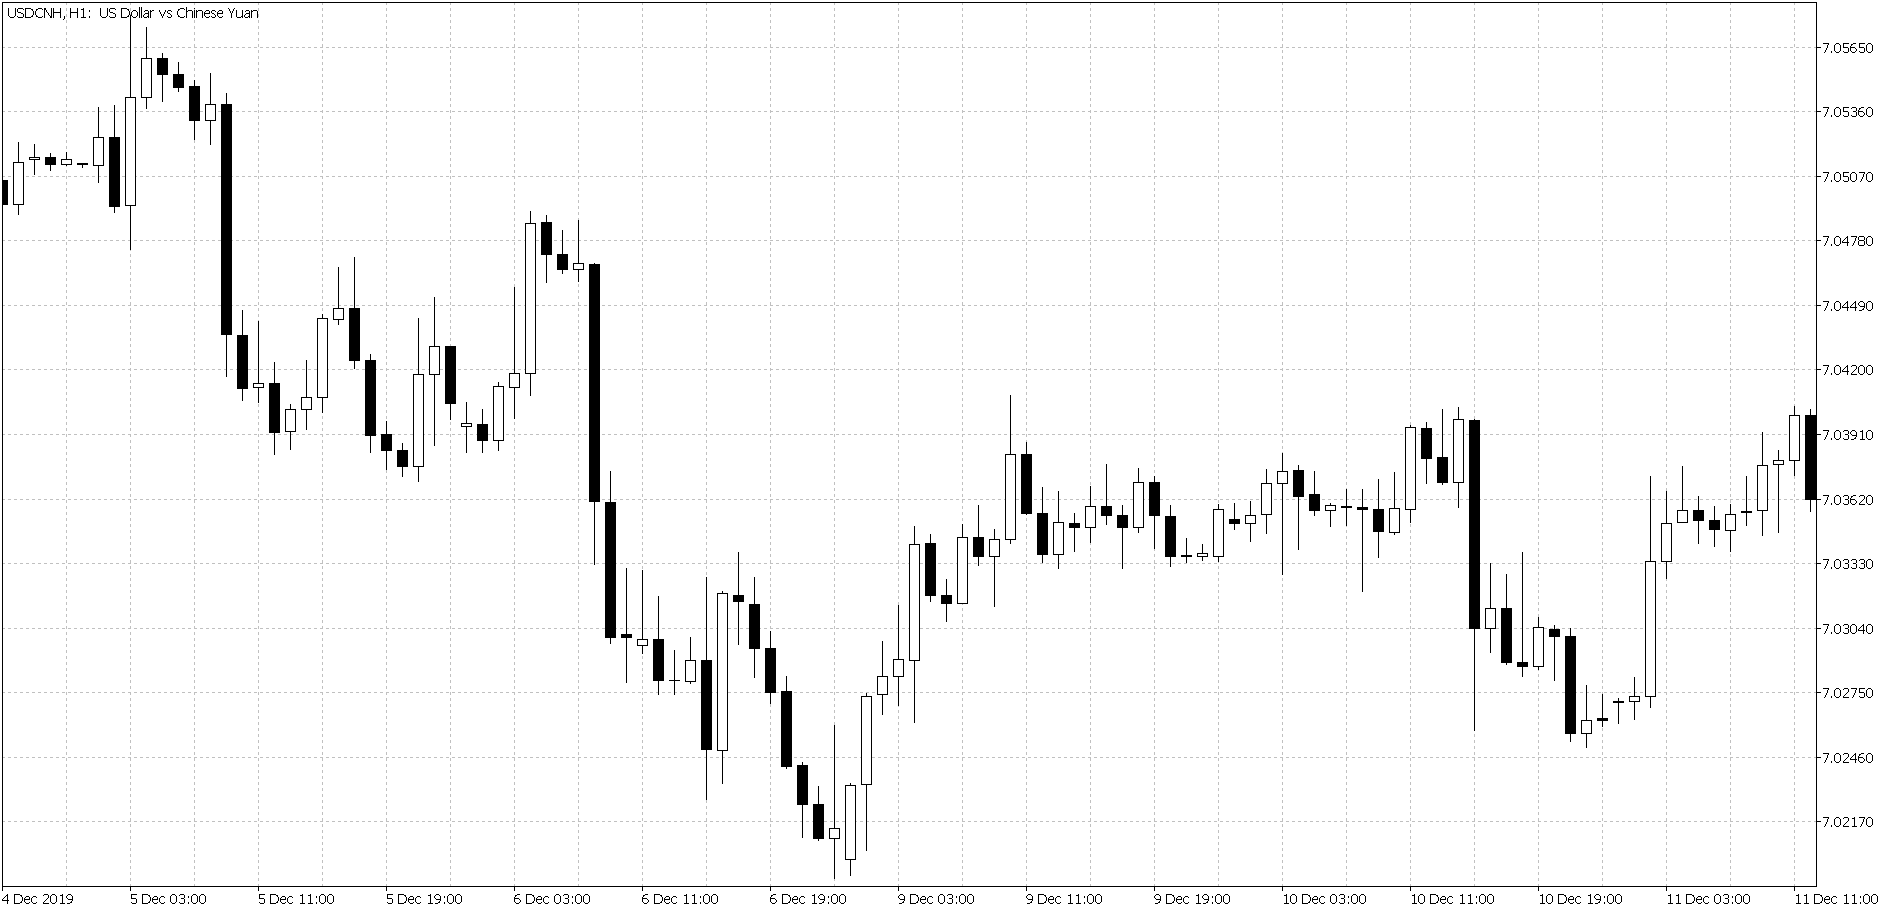3blackcrows: (155, 47, 202, 138)
